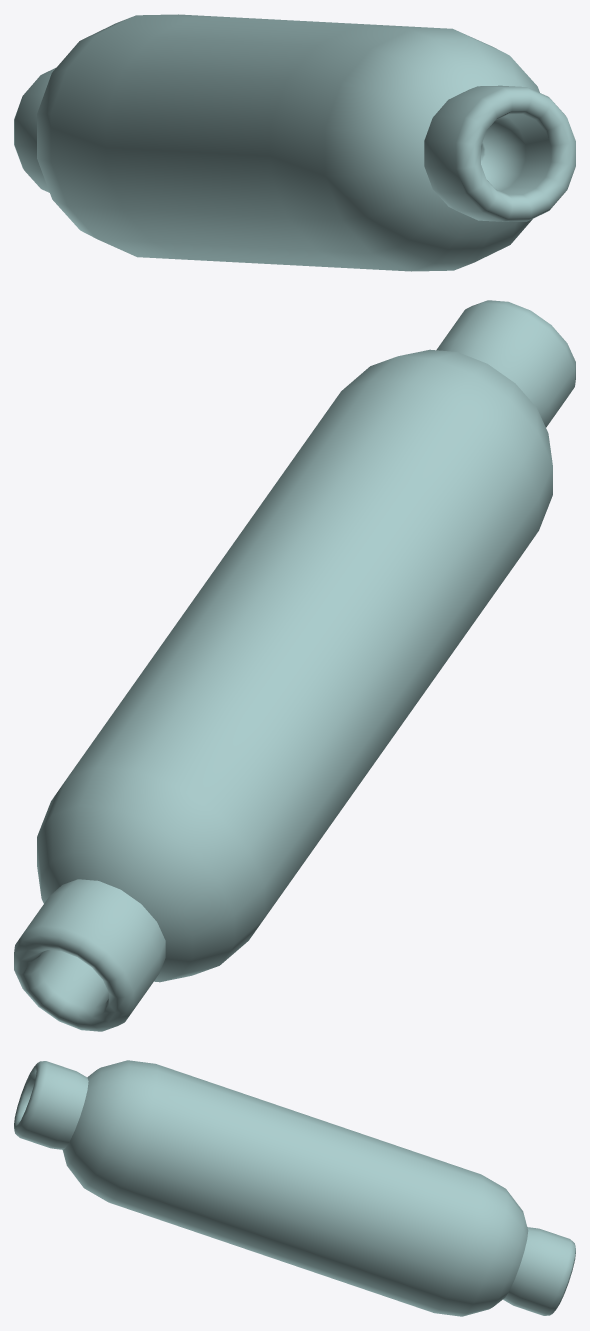
Rendered from LastLuna_Model_Station_Glass_Condenser.fbx.
3 renders of one model, top to bottom at view 1: azimuth 30°, elevation 25°; view 2: azimuth 150°, elevation 25°; view 3: azimuth 270°, elevation 25°, orthographic. The views are drawn at different scales.
Parts seen in each view (by area): view 1: Condenser001; view 2: Condenser001; view 3: Condenser001.
Part boxes in pixels (box(x1,y1,x2,y2)): Condenser001: box(14, 14, 575, 271); Condenser001: box(14, 300, 575, 1031); Condenser001: box(14, 1060, 575, 1316).
Size of the model in its own units: 45 by 83.73 by 173.
